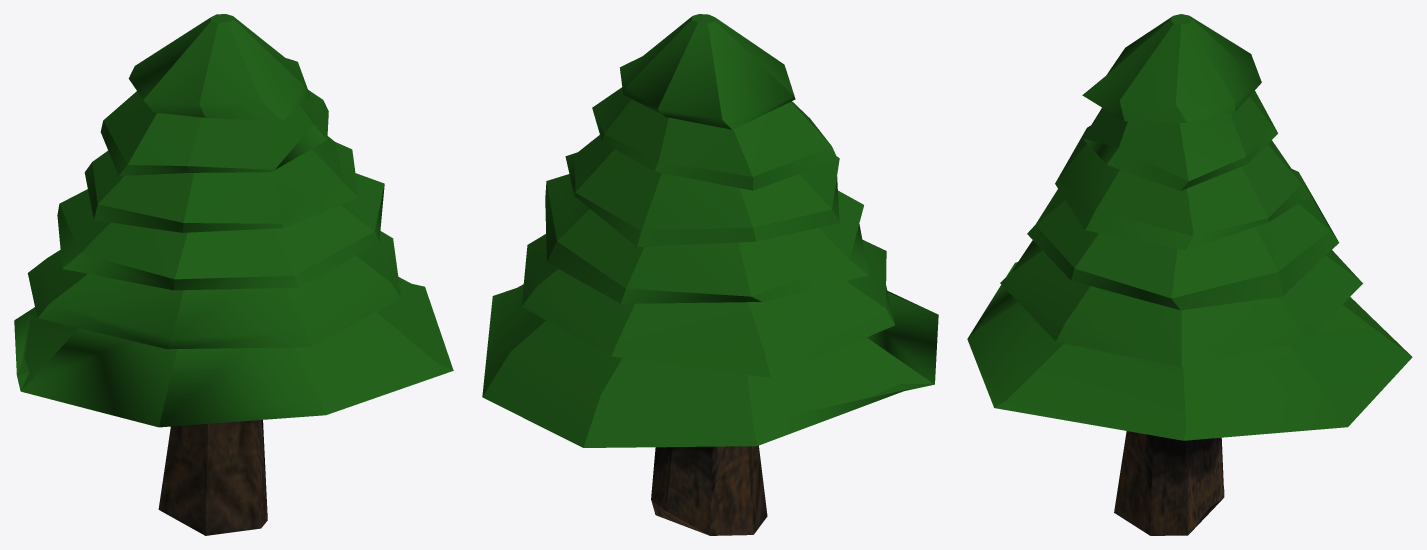
The model's file is small.obj.
3 renders of one model, left to right at view 1: azimuth 30°, elevation 25°; view 2: azimuth 150°, elevation 25°; view 3: azimuth 270°, elevation 25°, orthographic. The views are drawn at different scales.
Visible parts, largest first — view 1: Cylinder_Cylinder.001_Cylinder_Cylinder.001_Material.008, Cylinder_Cylinder.001_Cylinder_Cylinder.001_Material.007; view 2: Cylinder_Cylinder.001_Cylinder_Cylinder.001_Material.008, Cylinder_Cylinder.001_Cylinder_Cylinder.001_Material.007; view 3: Cylinder_Cylinder.001_Cylinder_Cylinder.001_Material.008, Cylinder_Cylinder.001_Cylinder_Cylinder.001_Material.007.
Part boxes in pixels (bbox=[...]): Cylinder_Cylinder.001_Cylinder_Cylinder.001_Material.008: bbox=[14, 14, 453, 427]; Cylinder_Cylinder.001_Cylinder_Cylinder.001_Material.007: bbox=[158, 420, 267, 535]; Cylinder_Cylinder.001_Cylinder_Cylinder.001_Material.008: bbox=[482, 14, 938, 447]; Cylinder_Cylinder.001_Cylinder_Cylinder.001_Material.007: bbox=[651, 445, 767, 535]; Cylinder_Cylinder.001_Cylinder_Cylinder.001_Material.008: bbox=[967, 14, 1412, 440]; Cylinder_Cylinder.001_Cylinder_Cylinder.001_Material.007: bbox=[1114, 431, 1224, 535].
Size of the model in its own units: 7.77 by 8.86 by 7.13.
2 materials, 2 textured.
